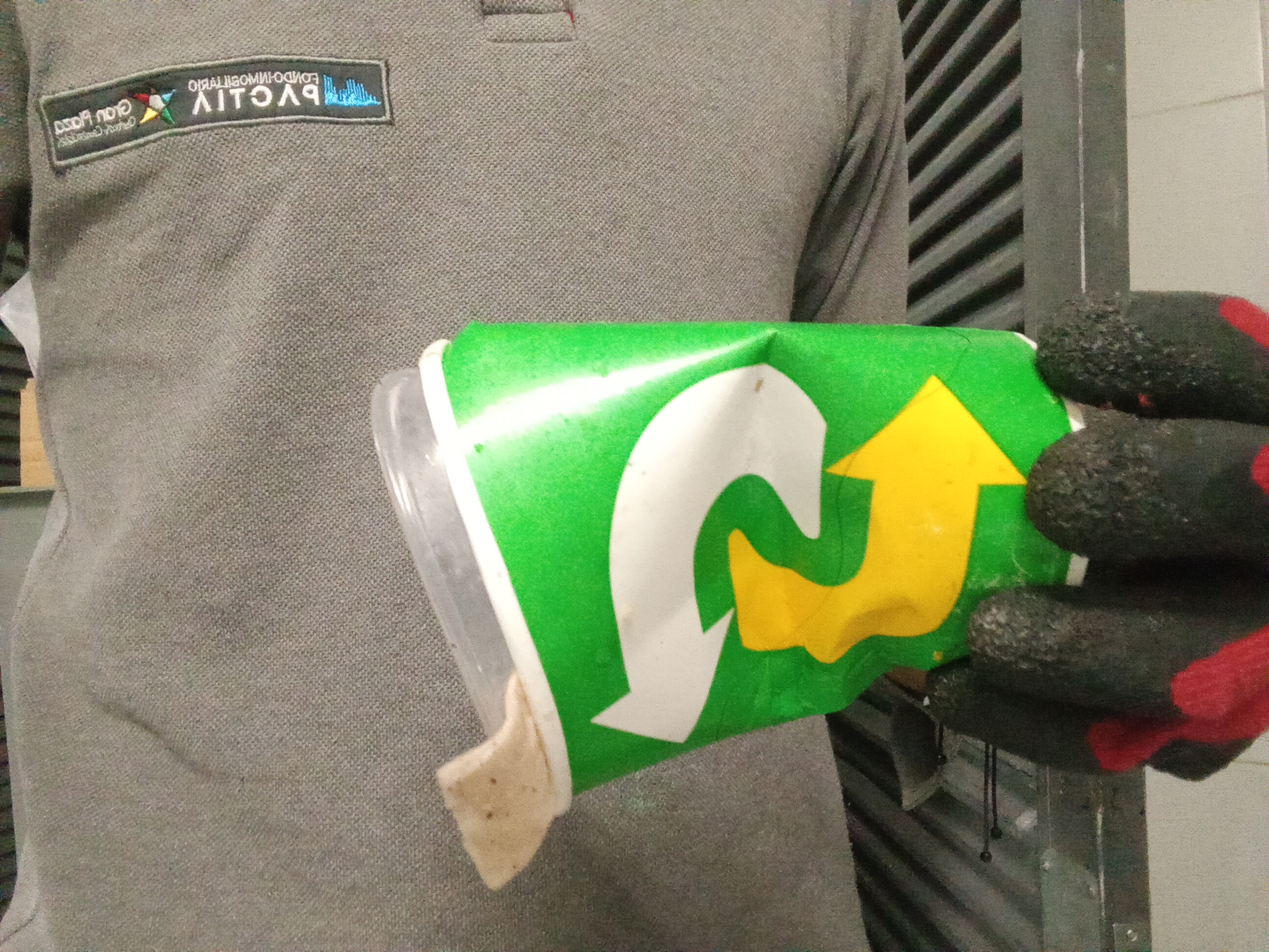Carton: (365, 320, 1104, 811)
